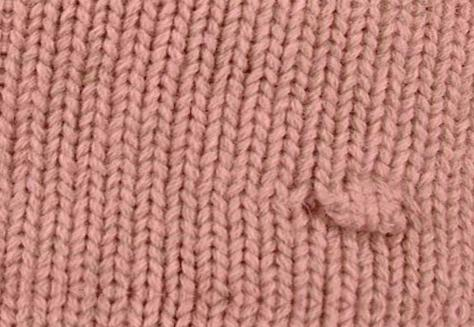knot: (306, 171, 413, 245)
